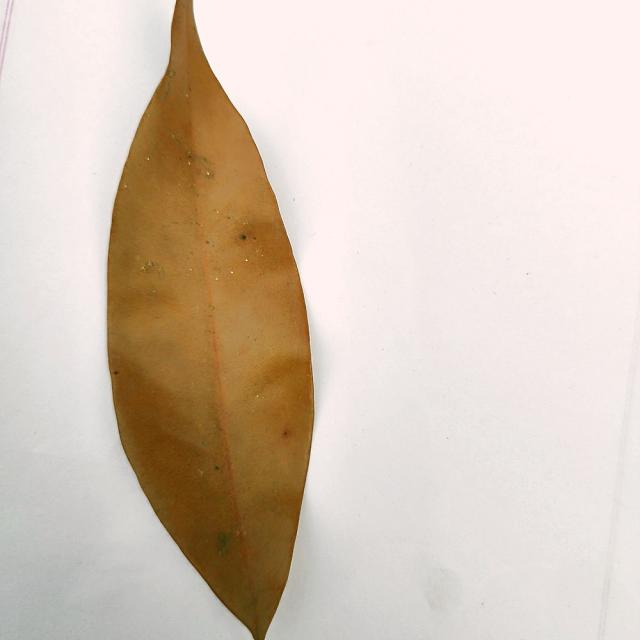Dry_Leaf-Lychee: (105, 0, 316, 639)
